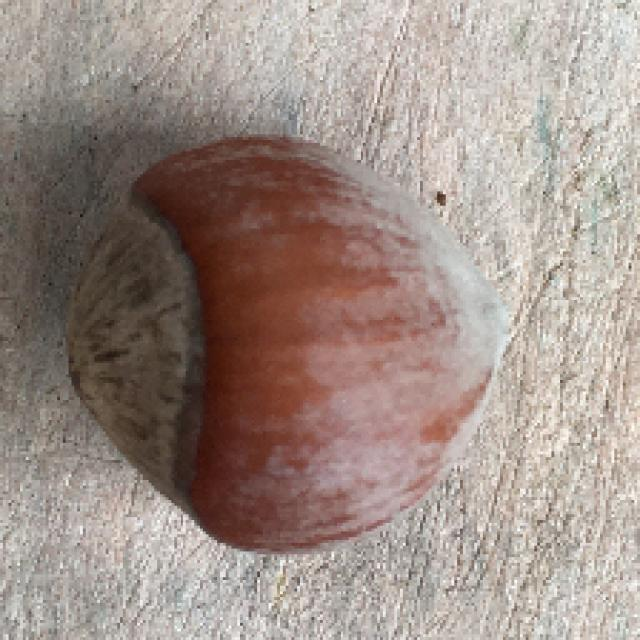qualityHazelnut: (48, 141, 510, 550)
